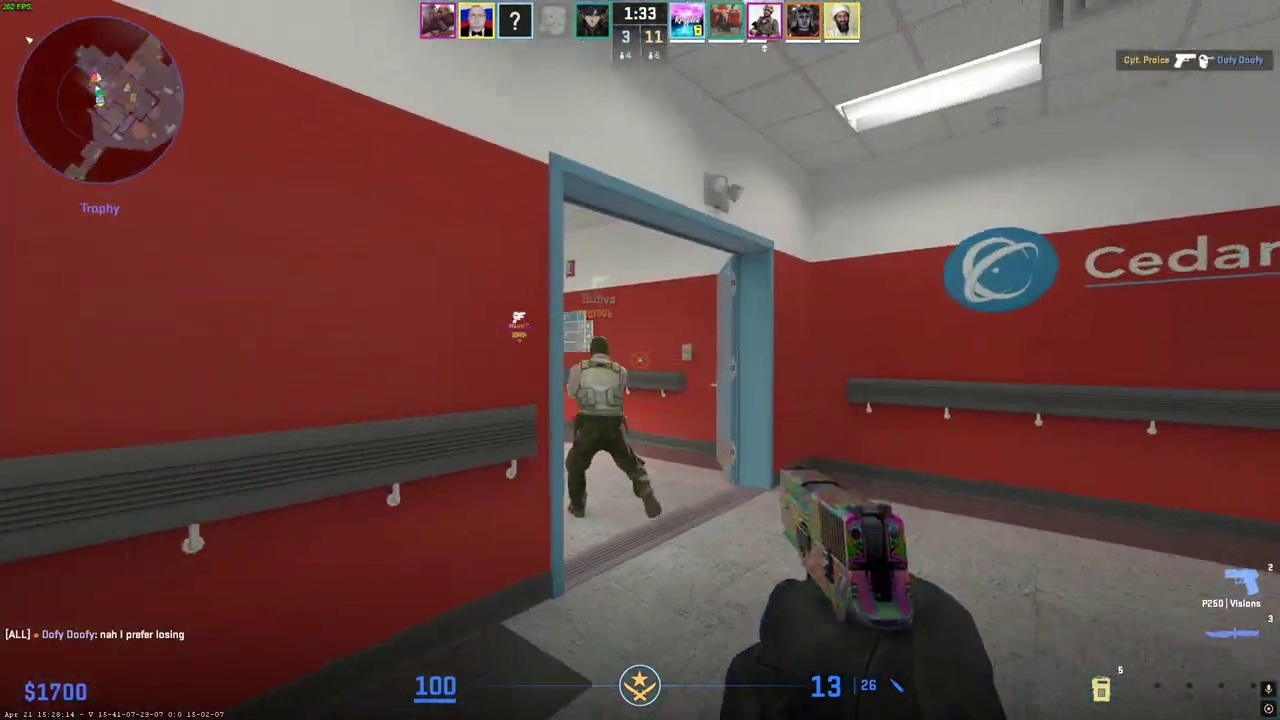Terrorist: (565, 336, 651, 519)
